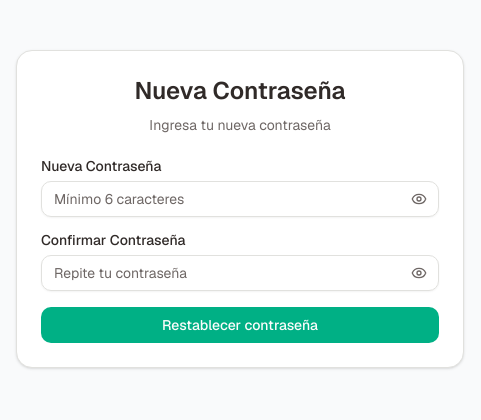
Test: ResetPasswordConfirmPage › should validate password length
Type "123" into the password field labelled "Nueva Contraseña" at (240, 199), box 41,181 -> 439,217
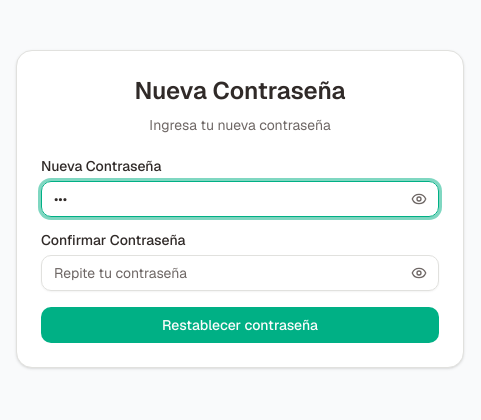
Type "123" into the password field labelled "Confirmar Contraseña" at (240, 273), box 41,255 -> 439,291
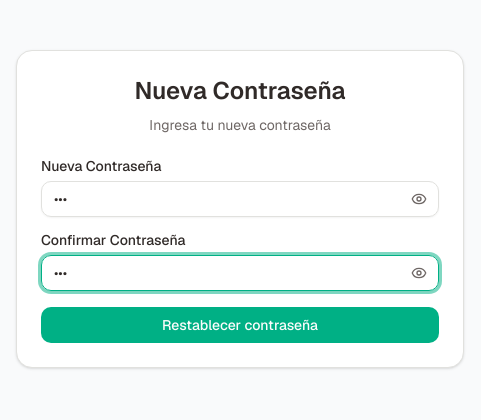
Click the button "Restablecer contraseña" at (240, 325), box 41,307 -> 439,343
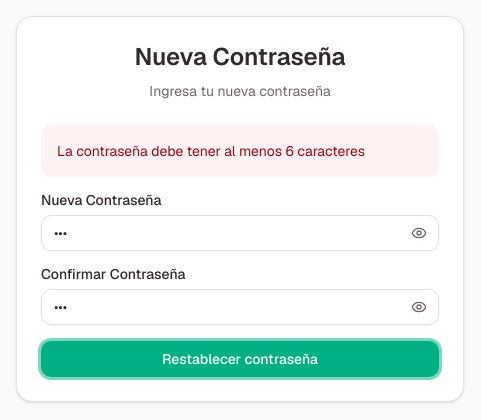
Expected: the text "La contraseña debe tener al menos 6 caracteres" is shown, 57,142 -> 365,160
